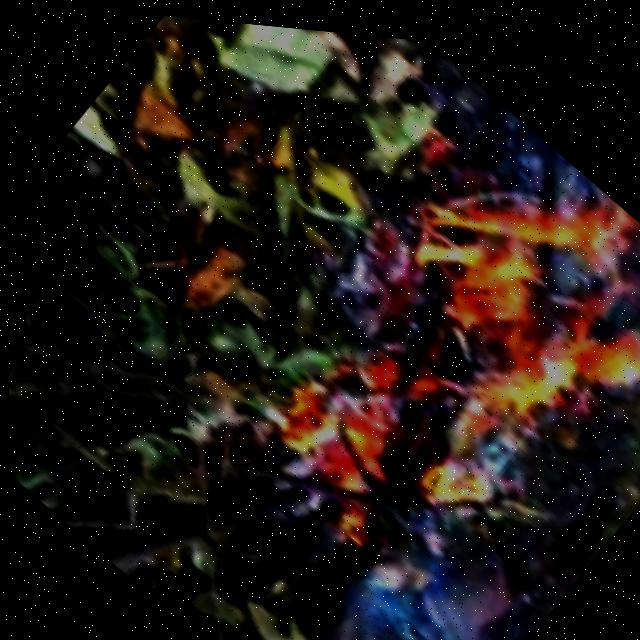Fire: (234, 88, 640, 635)
